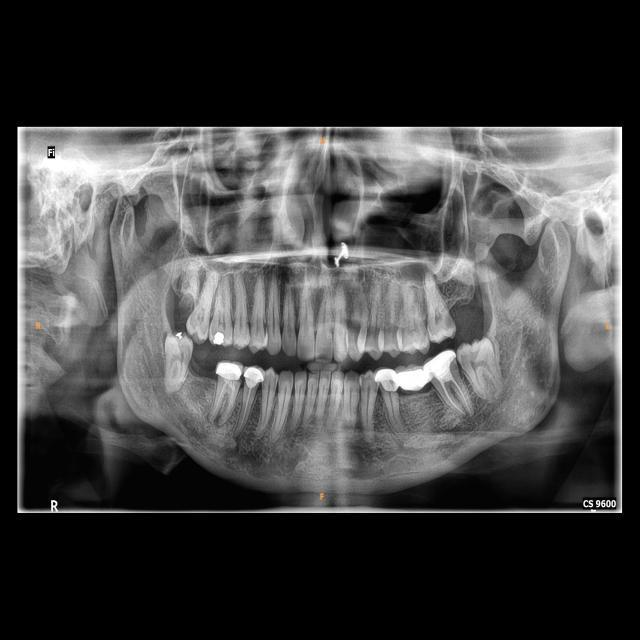dolgu: (210, 324, 231, 349)
kanal-tedavisi: (434, 376, 467, 417), (211, 382, 237, 422), (234, 386, 255, 428)
kaplama: (426, 349, 456, 378), (374, 367, 400, 394), (214, 362, 245, 384), (242, 359, 264, 389)
kopru: (389, 364, 441, 394)
